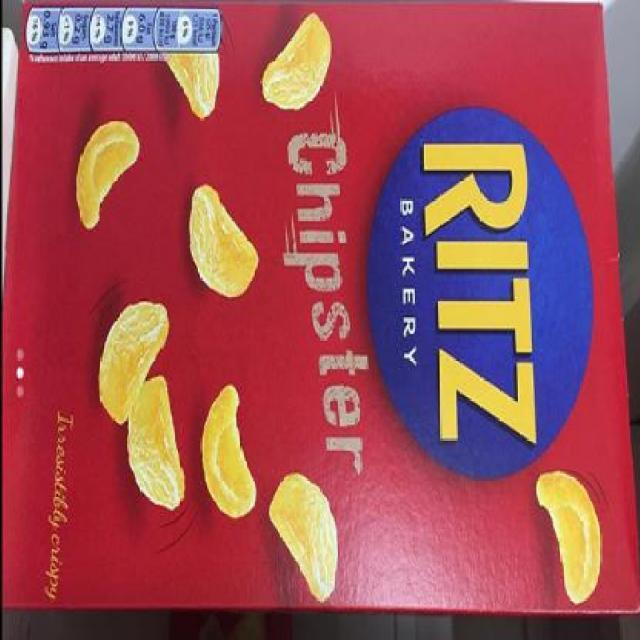Chips: (1, 4, 624, 618)
